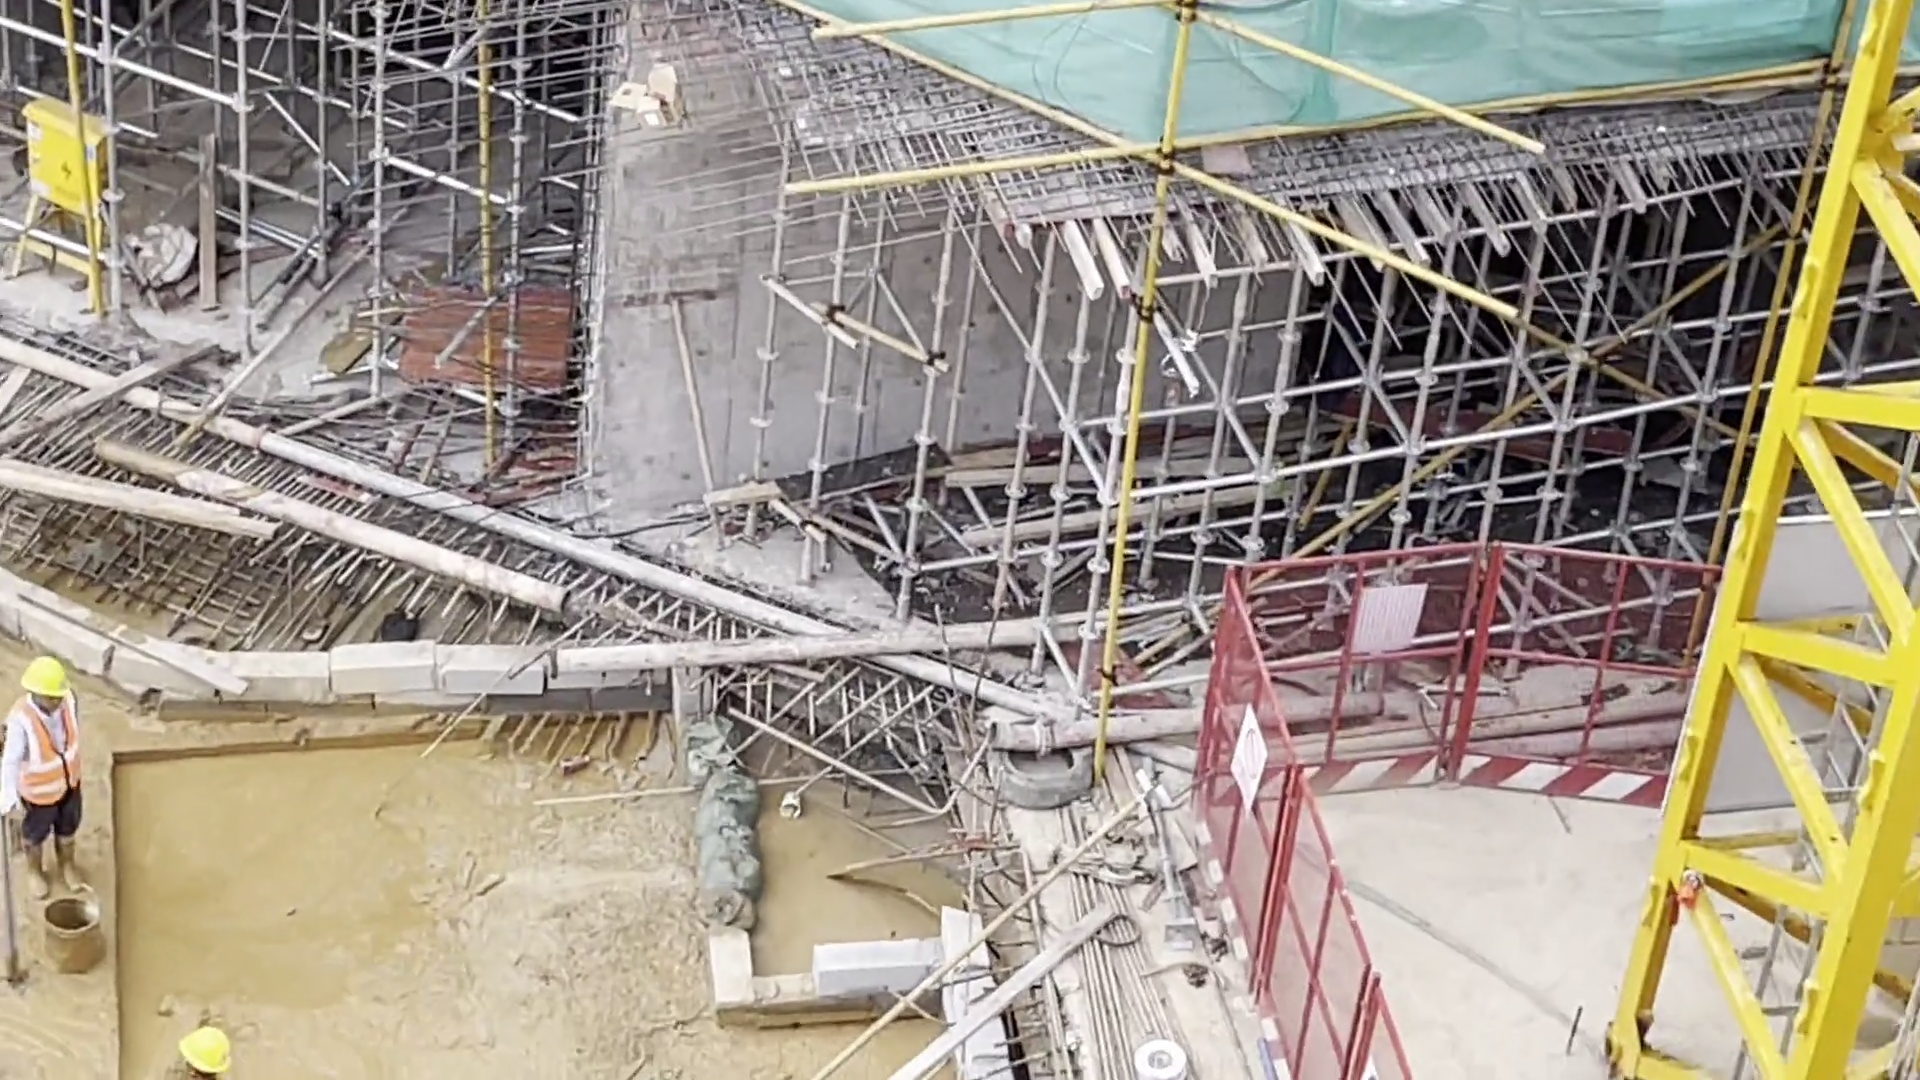ebox: (22, 85, 122, 234)
fence: (1130, 565, 1421, 1080), (1196, 557, 1726, 815)
helmet: (175, 1017, 238, 1072), (18, 658, 71, 697)
person: (1, 649, 91, 932)
vest: (4, 697, 89, 819)
